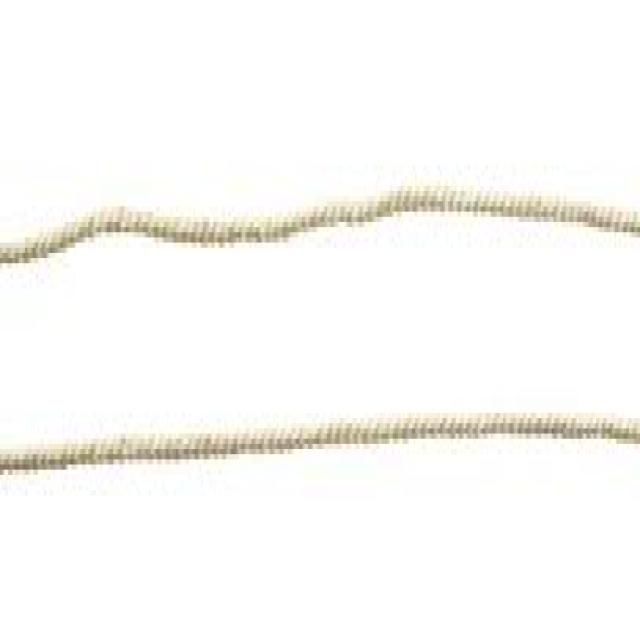Rope: (0, 166, 640, 278)
